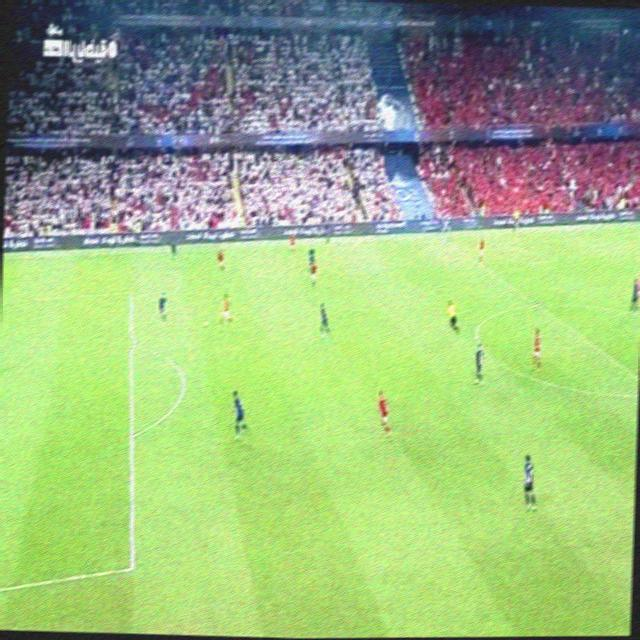bigarea_bottom_inner: (113, 552, 146, 584)
bigarea_top_inner: (126, 286, 136, 297)
bottom_arc_area_intersection: (128, 429, 136, 441)
halfcircle_top: (532, 299, 543, 310)
midline_top_intersection: (433, 231, 450, 243)
top_arc_area_intersection: (128, 336, 136, 349)
